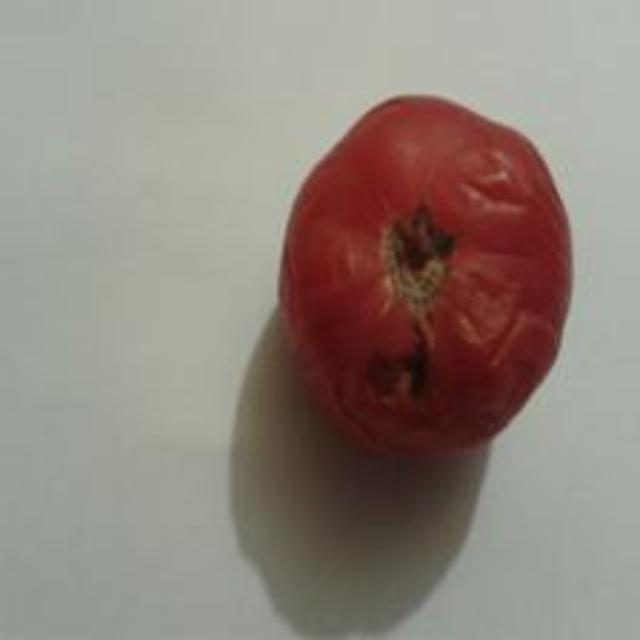defect: (268, 87, 581, 462)
